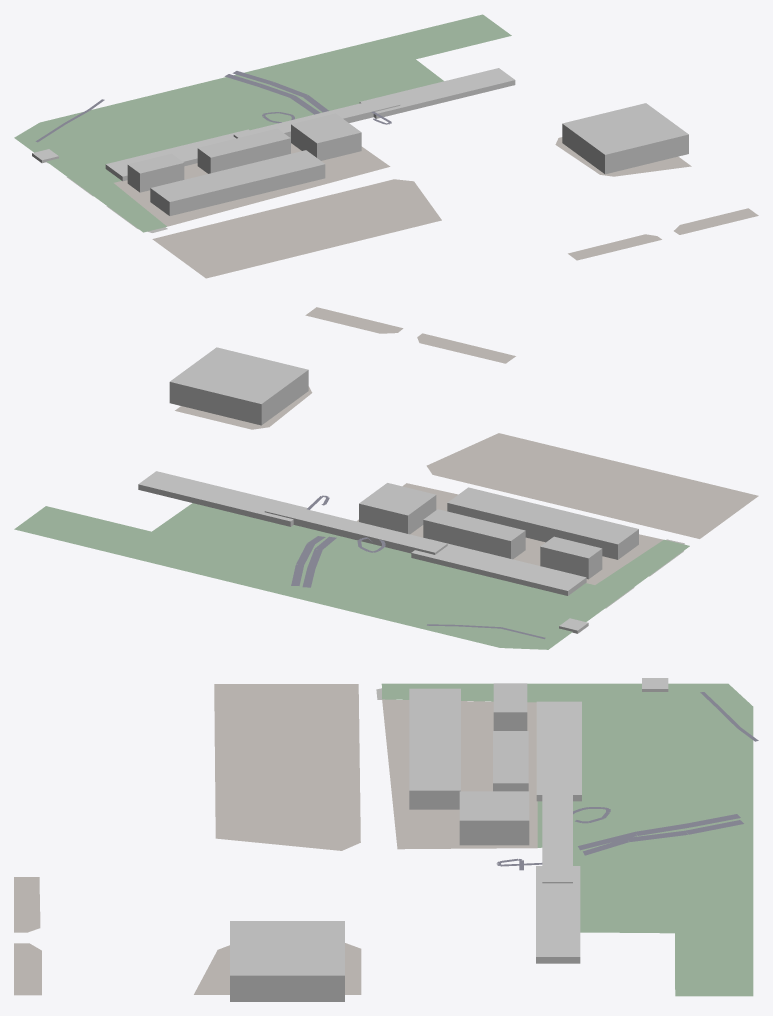
The model's file is 123_69_mid.glb.
The picture shows the model from 3 angles, top to bottom: view 1: azimuth 30°, elevation 25°; view 2: azimuth 150°, elevation 25°; view 3: azimuth 270°, elevation 25°; orthographic projection. The views are drawn at different scales.
Bounding box in the file's own units: 516 × 21.22 × 504.
